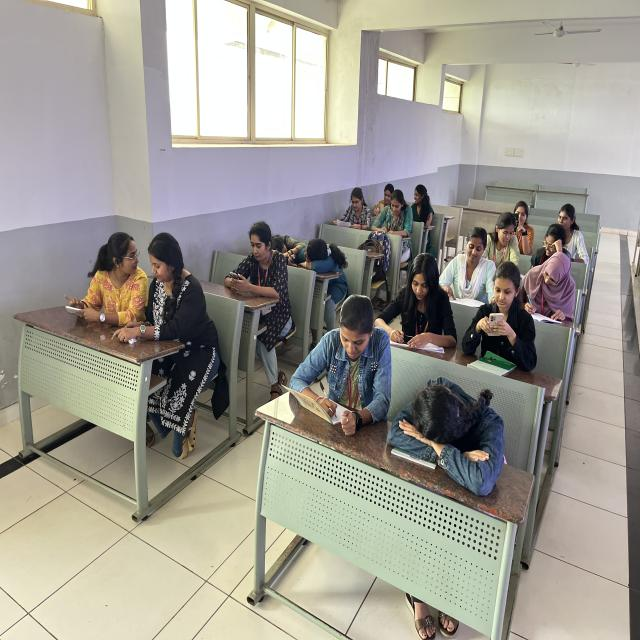Reading: (445, 230, 497, 318), (330, 171, 377, 241)
Sleeping: (396, 368, 496, 507), (298, 222, 349, 301), (266, 204, 309, 276)
Using Phone: (52, 188, 148, 351), (455, 271, 548, 399), (215, 215, 284, 345)
Writing: (294, 278, 393, 447), (514, 244, 580, 322)
